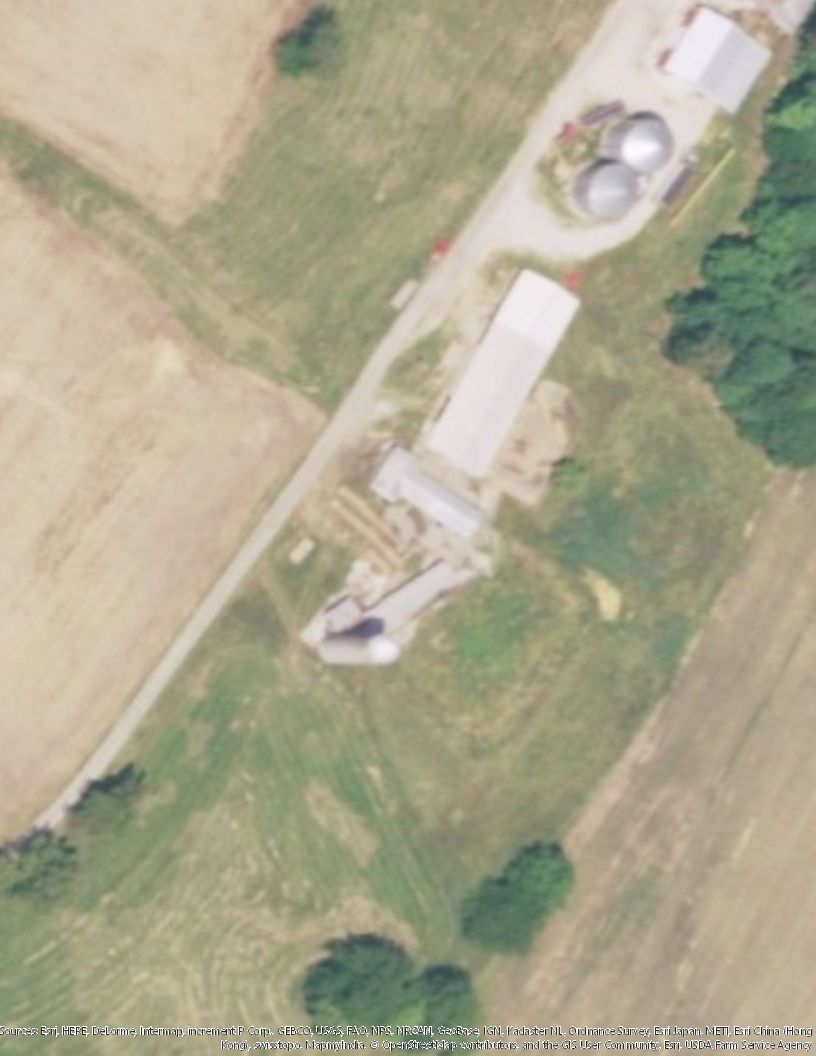cafo: (405, 269, 591, 495)
